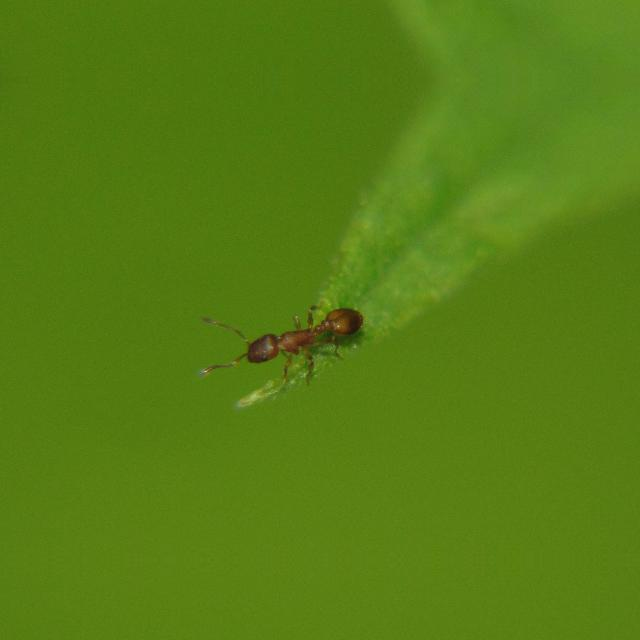Temnothorax: (218, 291, 366, 379)
